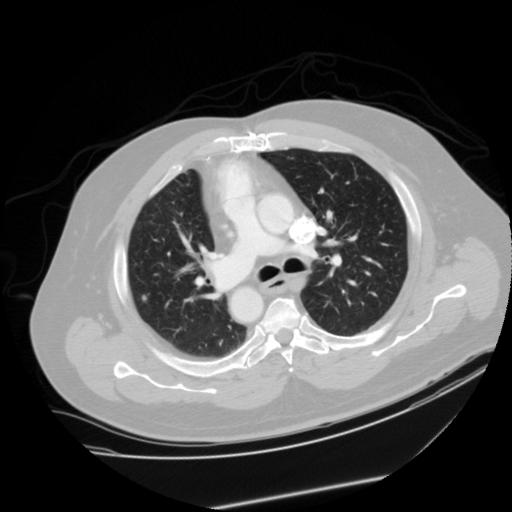nodule: (140, 292, 152, 304)
